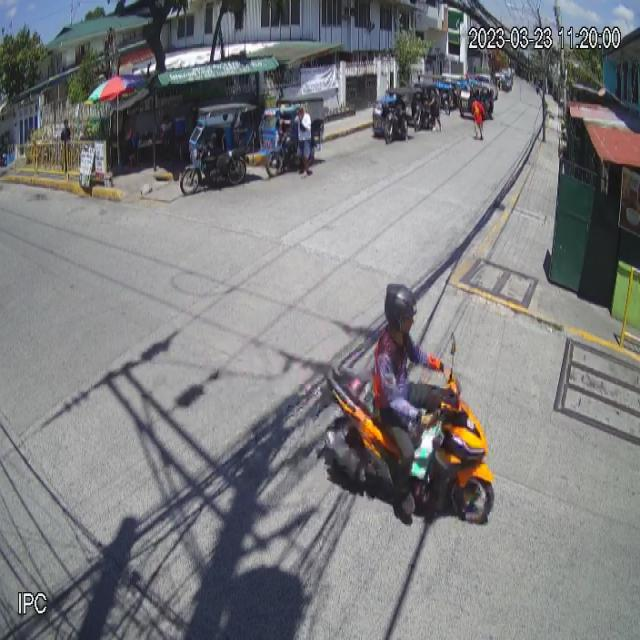Motorcycle: (320, 331, 496, 528)
Tricycle: (180, 102, 256, 196)
